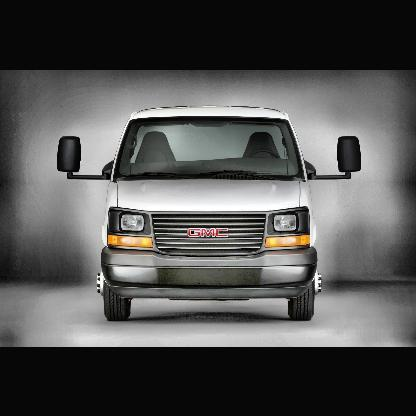GMC Savana Van 2012: (58, 104, 365, 323)
